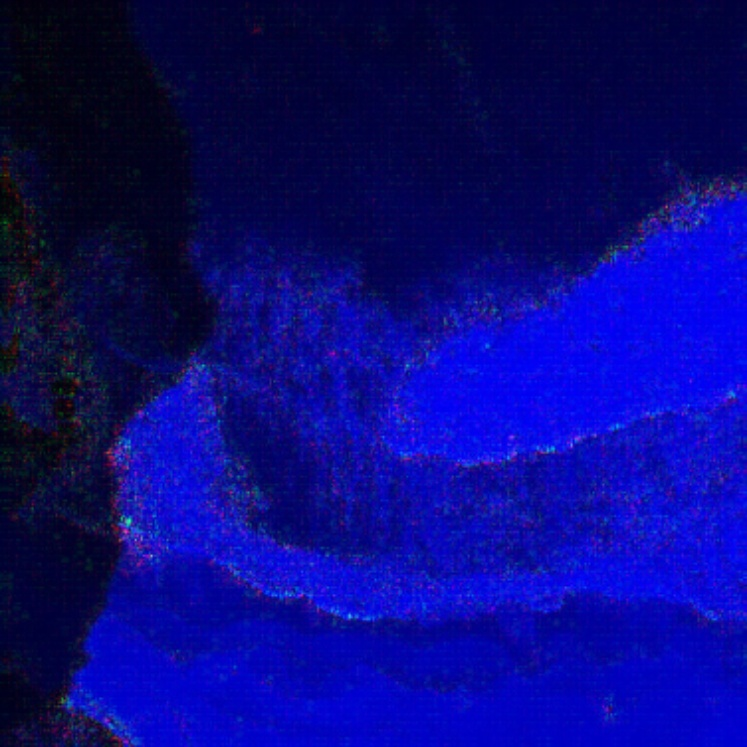rip_current: (134, 196, 467, 545)
